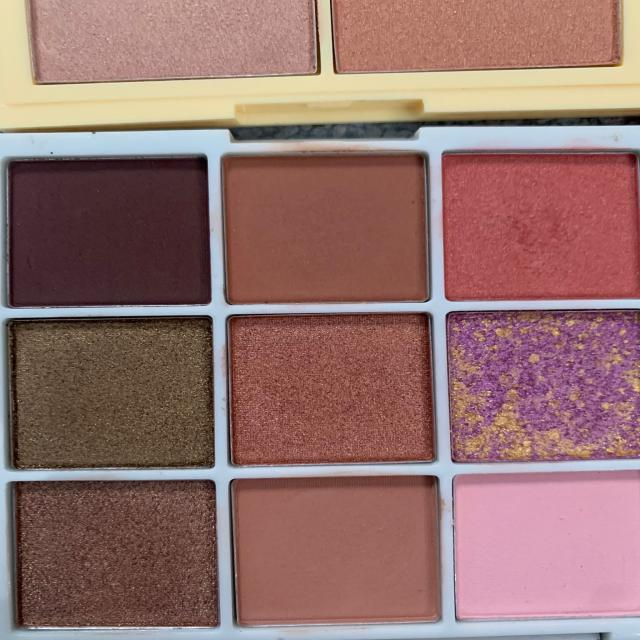eye shade: (4, 125, 640, 639)
